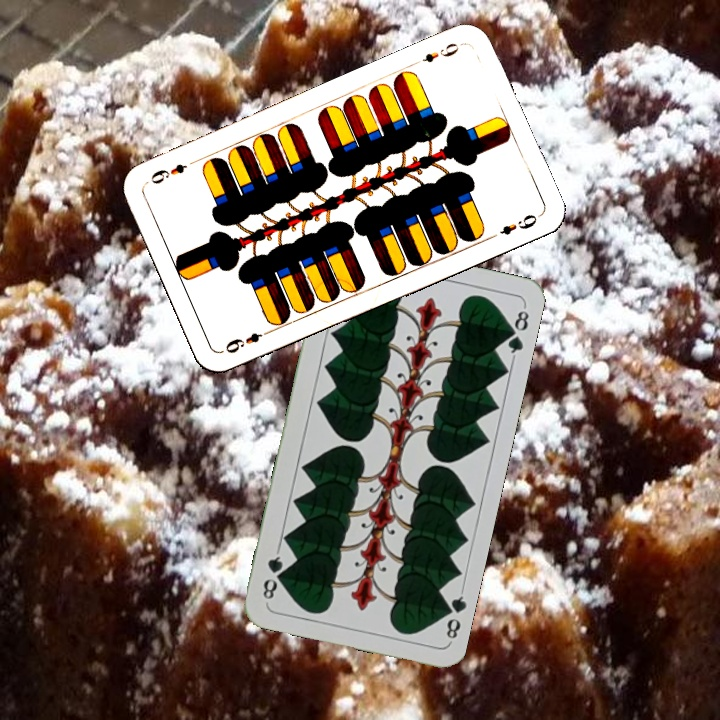E9: (410, 38, 466, 68), (221, 325, 275, 356)
G8: (437, 586, 468, 644)
